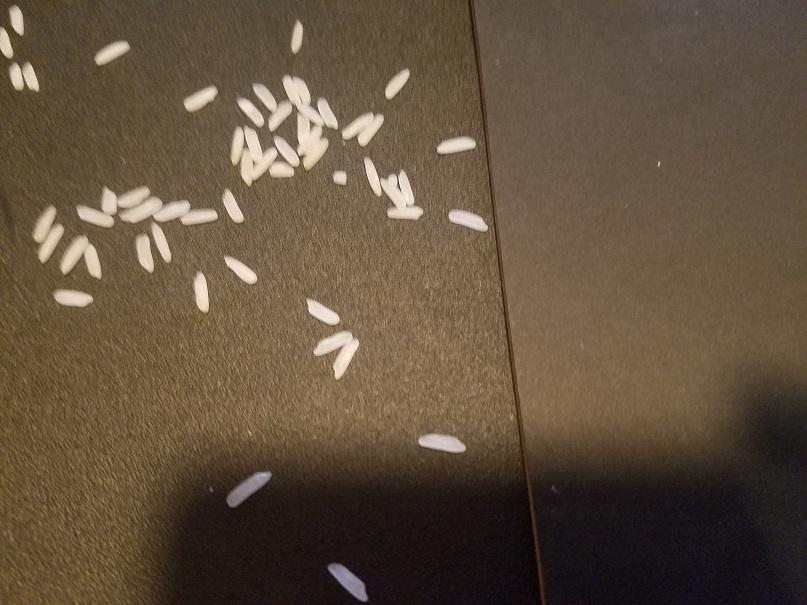egg: (327, 560, 373, 604), (224, 468, 272, 509), (329, 337, 361, 382), (314, 326, 355, 359), (119, 195, 164, 225), (58, 235, 90, 274), (36, 223, 67, 263), (414, 430, 467, 453), (222, 255, 260, 287), (182, 82, 220, 114), (148, 220, 174, 265), (304, 296, 342, 326), (354, 113, 388, 146), (234, 93, 267, 126), (75, 202, 115, 229), (133, 231, 158, 274), (219, 187, 248, 224), (447, 207, 491, 231), (300, 136, 331, 170), (249, 146, 279, 181), (93, 39, 130, 67), (271, 134, 302, 167), (262, 100, 293, 133), (33, 204, 58, 244), (383, 66, 410, 103), (340, 112, 375, 140), (115, 185, 151, 212), (80, 241, 104, 280), (298, 123, 325, 157), (151, 196, 189, 220), (53, 287, 94, 308), (435, 135, 478, 155), (242, 124, 264, 163), (314, 96, 340, 129), (192, 270, 211, 315), (378, 178, 407, 206), (251, 80, 279, 109), (362, 156, 382, 195), (178, 206, 218, 225), (21, 58, 42, 92), (281, 75, 302, 109), (290, 75, 313, 106), (398, 170, 417, 205), (5, 61, 25, 94), (8, 2, 27, 36), (100, 183, 120, 215), (228, 124, 243, 165), (386, 205, 424, 221), (289, 16, 305, 54), (266, 160, 296, 178), (1, 22, 16, 58), (296, 113, 310, 148), (241, 147, 254, 184), (308, 104, 326, 126), (334, 169, 350, 186), (387, 173, 400, 188)
